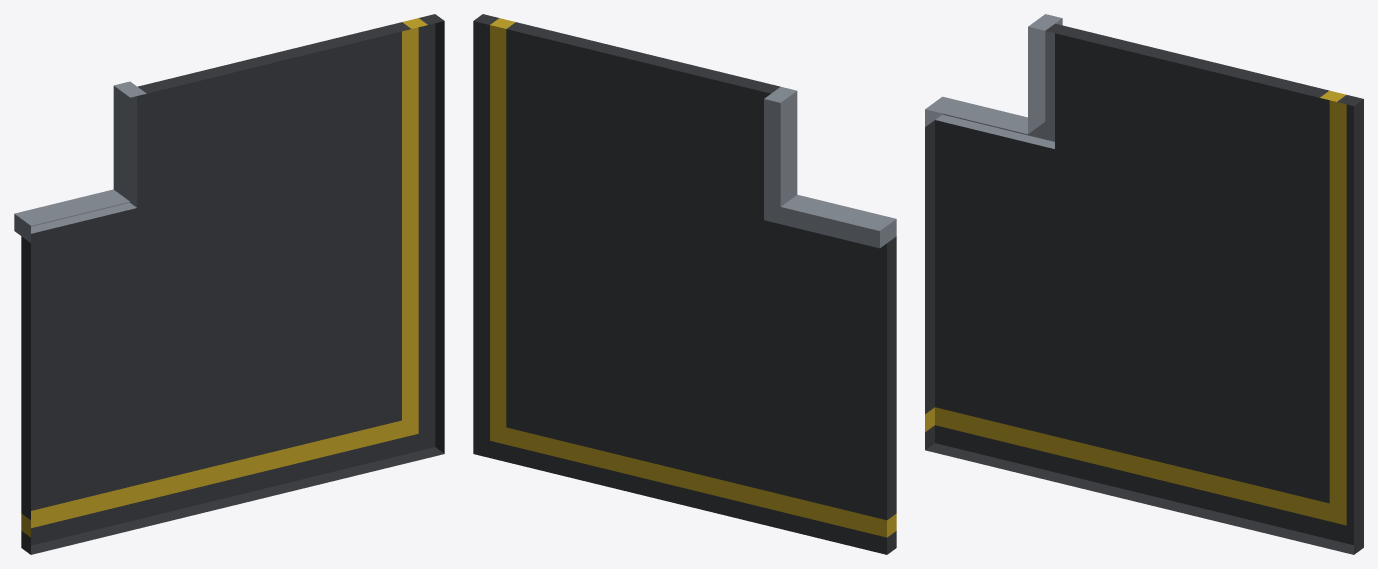
The model's file is SM_RoadBig_TurnInside.FBX.
The picture shows the model from 3 angles, left to right: view 1: azimuth 30°, elevation 25°; view 2: azimuth 150°, elevation 25°; view 3: azimuth 330°, elevation 25°; orthographic projection. The views are drawn at different scales.
Parts seen in each view (by area): view 1: SM_RoadBig_TurnInside; view 2: SM_RoadBig_TurnInside; view 3: SM_RoadBig_TurnInside.
Part boxes in pixels (x1,y1,x2,y2): SM_RoadBig_TurnInside: (14,14,444,554); SM_RoadBig_TurnInside: (473,14,896,554); SM_RoadBig_TurnInside: (925,14,1363,554).
Size of the model in its own units: 50 by 3.5 by 50.
